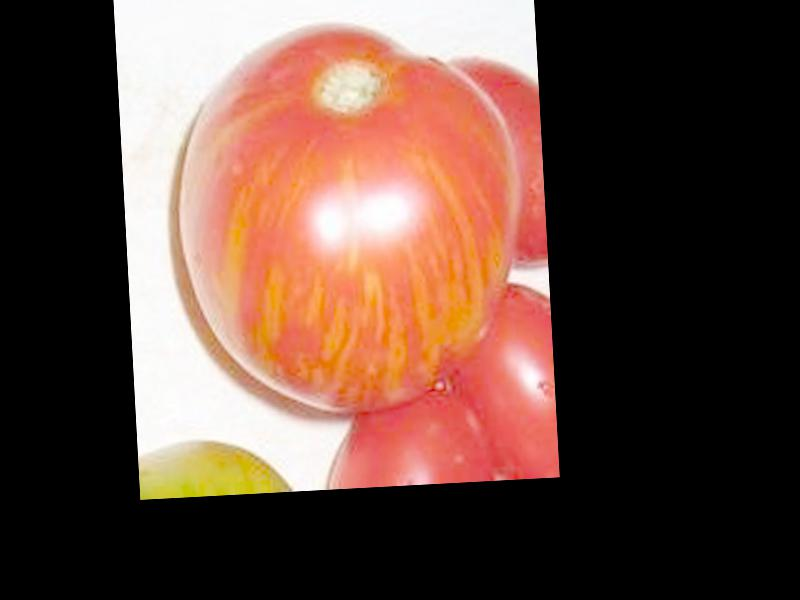Tomato: (168, 8, 532, 423)
